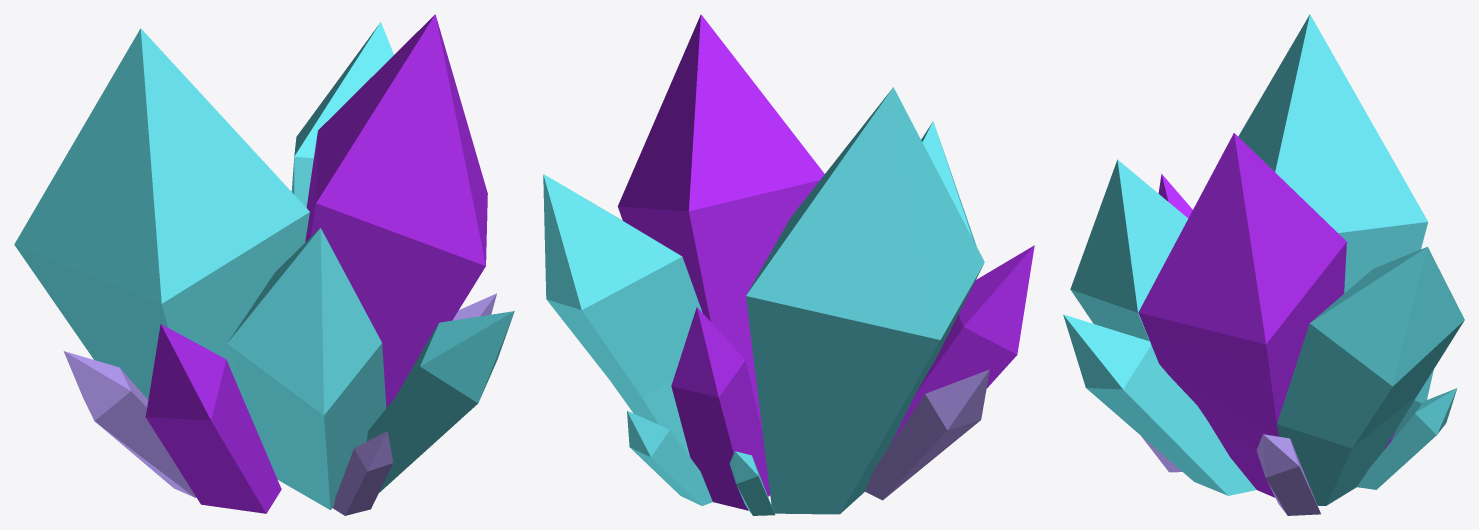
The model's file is ore.FBX.
3 renders of one model, left to right at view 1: azimuth 30°, elevation 25°; view 2: azimuth 150°, elevation 25°; view 3: azimuth 270°, elevation 25°, orthographic. The views are drawn at different scales.
Visible parts, largest first — view 1: Box001; view 2: Box001; view 3: Box001.
Part boxes in pixels (box(x1,y1,x2,y2)): Box001: box(14, 14, 514, 515); Box001: box(543, 14, 1034, 515); Box001: box(1063, 14, 1464, 515).
Size of the model in its own units: 18.28 by 19.05 by 17.54.
